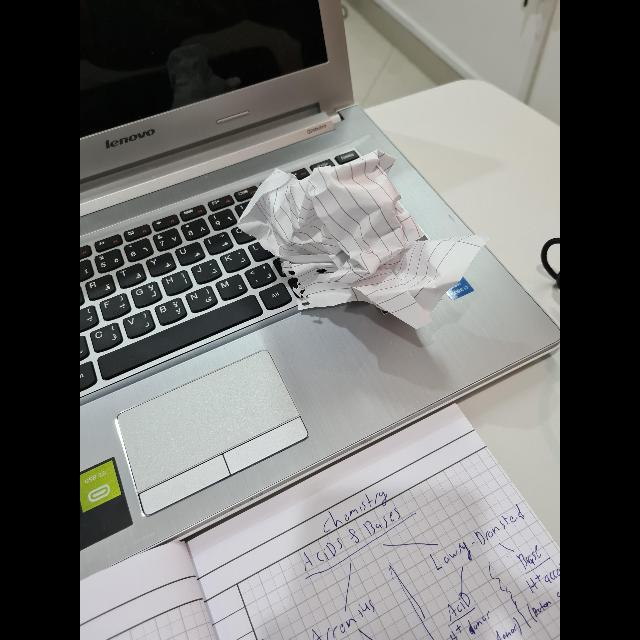scrap_paper: (247, 151, 475, 317)
